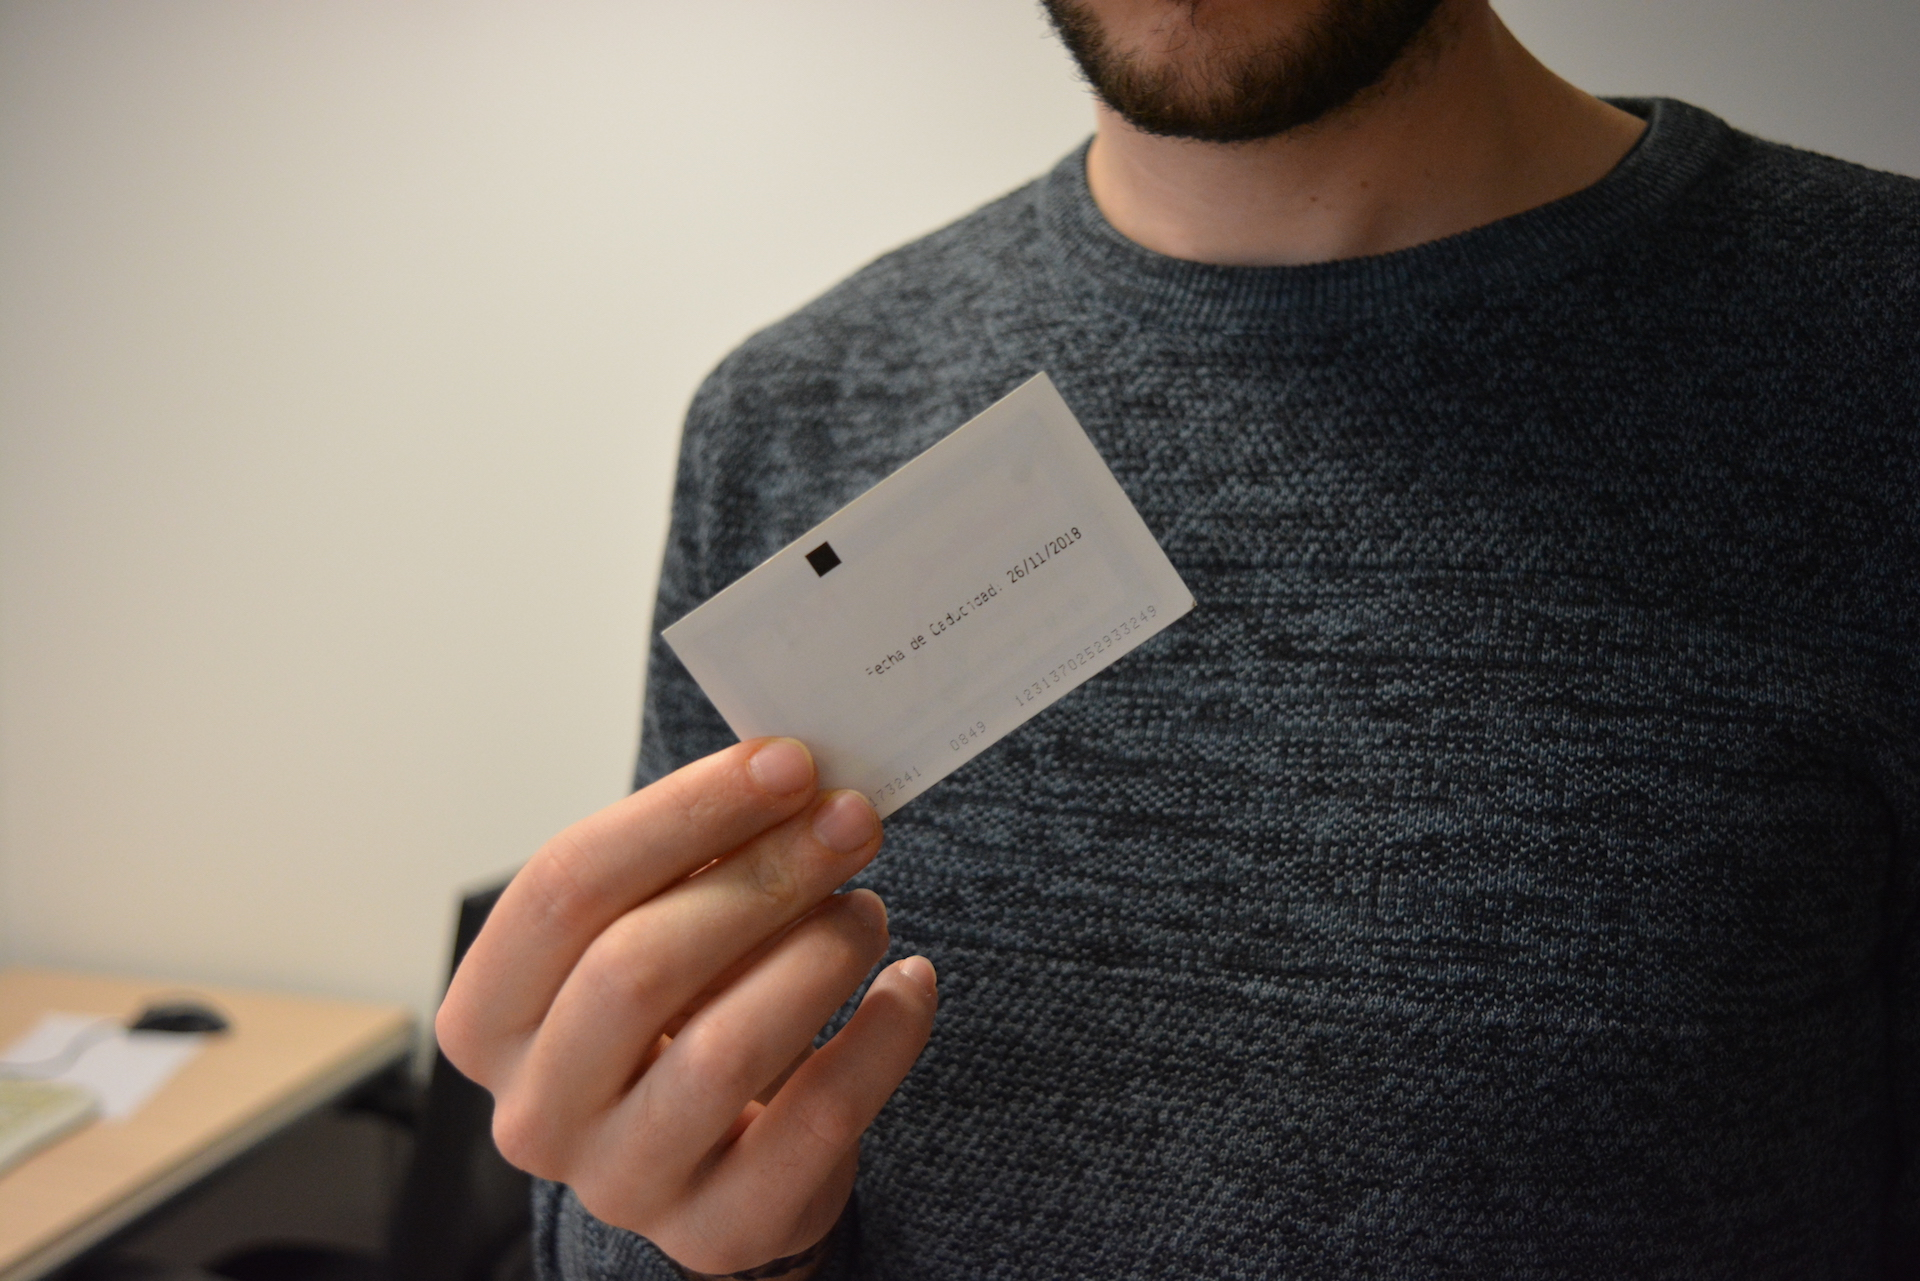tarjeta: (658, 367, 1202, 823)
